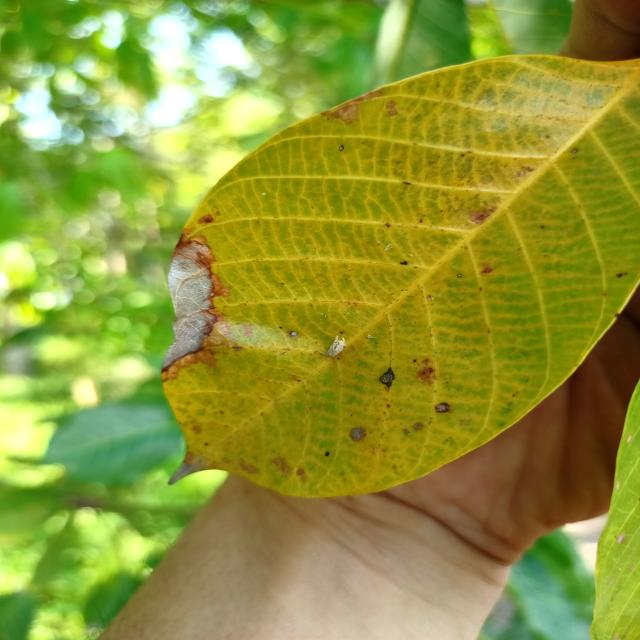Colletotrichum: (380, 372, 394, 385), (435, 403, 450, 413), (324, 450, 331, 458), (571, 148, 578, 154), (290, 331, 298, 336), (616, 274, 622, 278), (457, 274, 462, 278), (541, 226, 544, 228), (340, 332, 343, 334), (280, 326, 282, 328)
Leaf-Blight: (162, 240, 214, 370)
